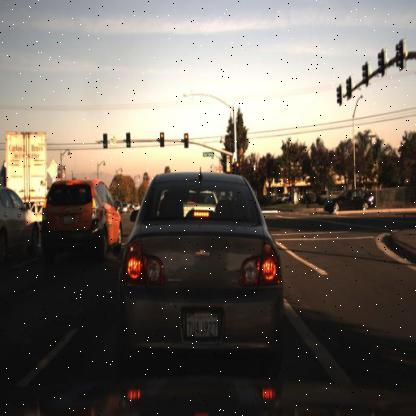car: (121, 174, 280, 372), (41, 176, 123, 263), (0, 183, 42, 263), (320, 184, 375, 214)
trafficLight-GreenLeft: (102, 129, 110, 150), (124, 130, 132, 151)
trafficLight-Red: (182, 132, 190, 152), (159, 129, 167, 148), (234, 160, 242, 178)
truck: (3, 125, 50, 224), (2, 126, 53, 206)
